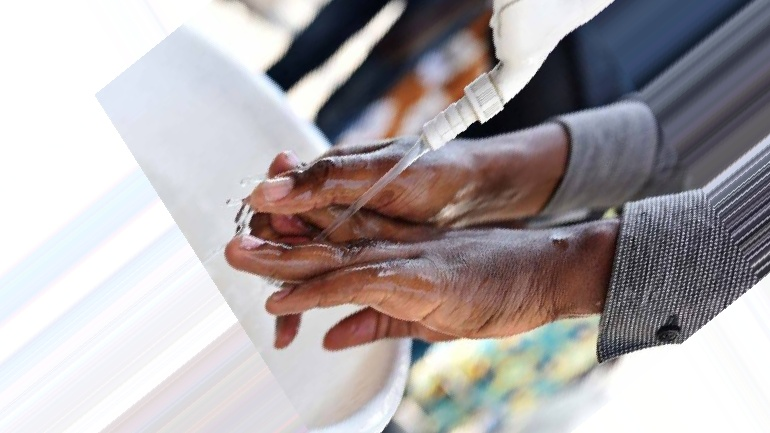washing hand: (174, 0, 715, 432)
